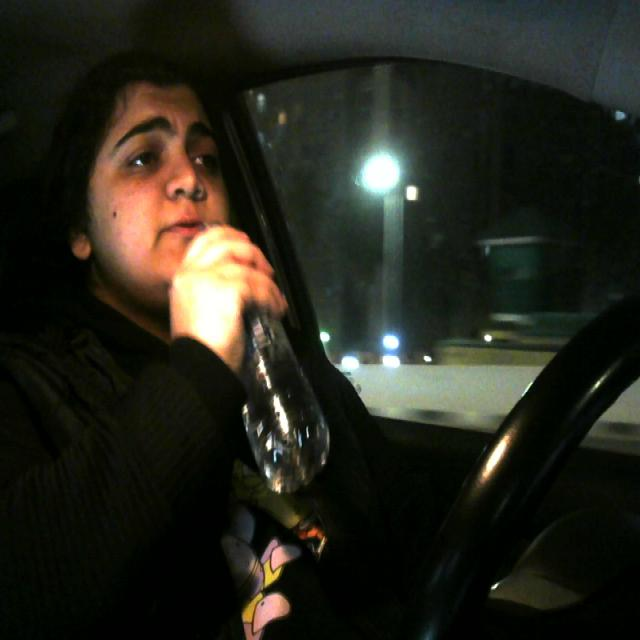drinking: (178, 212, 336, 498)
